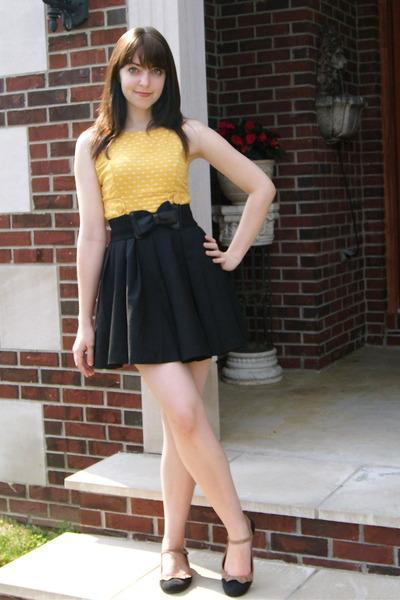shirt: (92, 125, 189, 218)
shoe: (221, 578, 251, 596)
skirt: (89, 214, 266, 371)
